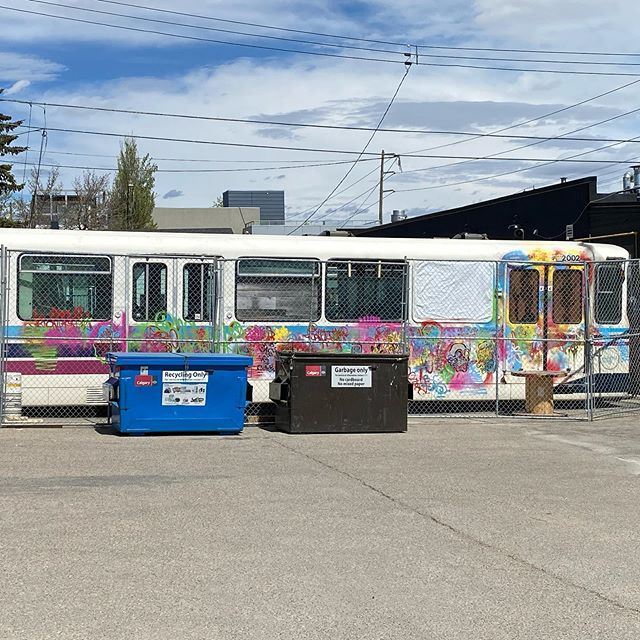bus: (1, 238, 629, 414)
dumpster: (269, 343, 417, 442), (94, 348, 258, 435)
sky: (22, 1, 640, 197)
